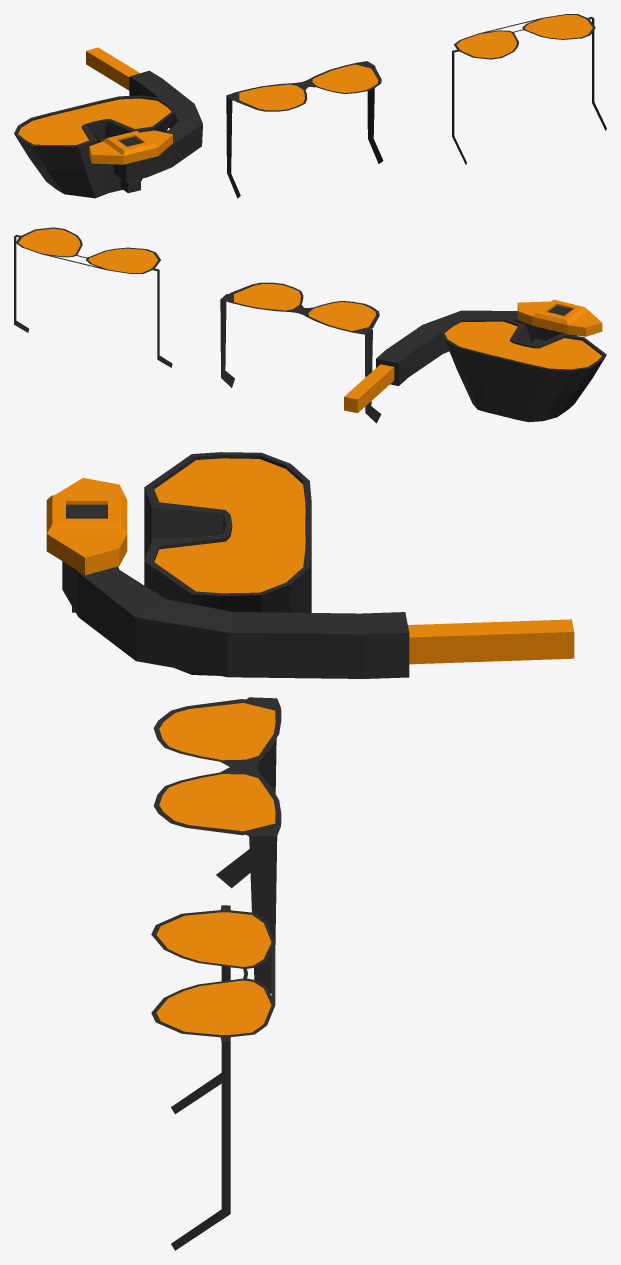
The model's file is Summer Props.fbx.
3 renders of one model, top to bottom at view 1: azimuth 30°, elevation 25°; view 2: azimuth 150°, elevation 25°; view 3: azimuth 270°, elevation 25°, orthographic. The views are drawn at different scales.
Parts seen in each view (by area): view 1: Diving Mask, Snorkel, Sunglasses 2, Sunglasses 1; view 2: Diving Mask, Snorkel, Sunglasses 2, Sunglasses 1; view 3: Snorkel, Diving Mask, Sunglasses 2, Sunglasses 1.
Boxes of the visible parts, box(x1,y1,x2,y2) form: Diving Mask: box(14, 95, 176, 198); Snorkel: box(86, 47, 202, 193); Sunglasses 2: box(226, 61, 383, 198); Sunglasses 1: box(452, 14, 606, 164); Diving Mask: box(440, 318, 606, 422); Snorkel: box(344, 299, 602, 413); Sunglasses 2: box(220, 282, 381, 423); Sunglasses 1: box(14, 227, 172, 367); Snorkel: box(46, 478, 574, 678); Diving Mask: box(144, 452, 311, 675); Sunglasses 2: box(153, 697, 281, 993); Sunglasses 1: box(151, 905, 275, 1250).
Bounding box in the file's own units: 267 × 57.2 × 107.
